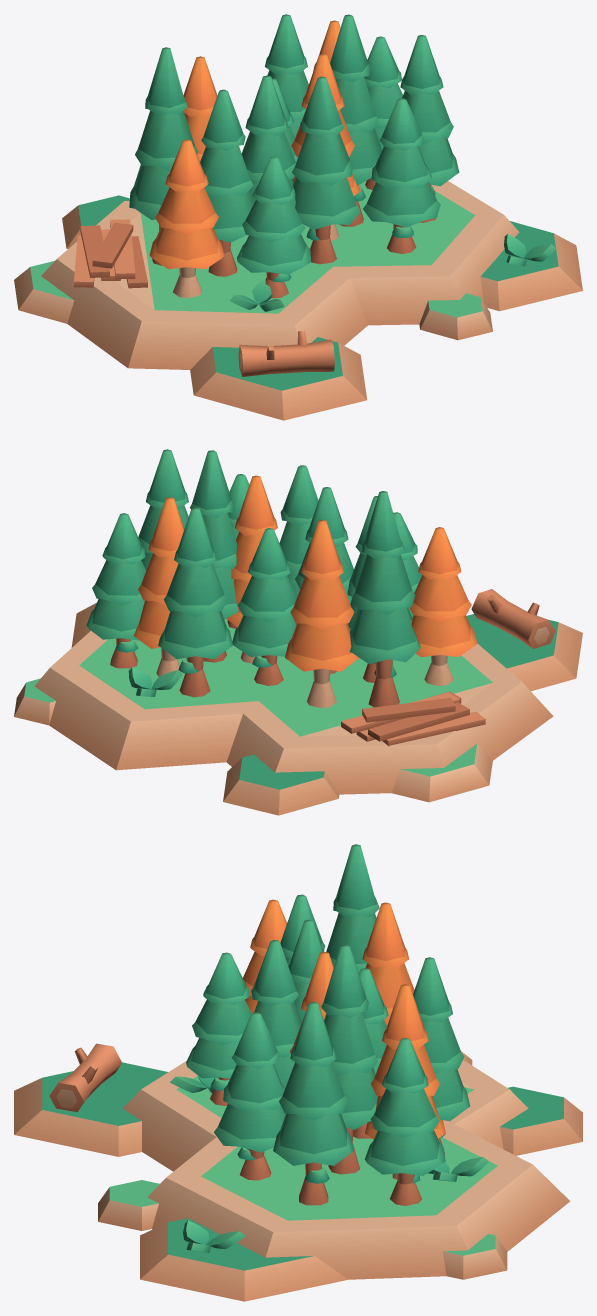
The model's file is Tree Island.glb.
3 renders of one model, top to bottom at view 1: azimuth 30°, elevation 25°; view 2: azimuth 150°, elevation 25°; view 3: azimuth 270°, elevation 25°, orthographic. The views are drawn at different scales.
Parts seen in each view (by area): view 1: rock-flat-grass, tree.002, tree-autumn.003, tree.005, tree, tree.004, tree.009, tree.006, tree.007, resource-planks, tree.010, tree-log-small (+4 smaller); view 2: rock-flat-grass, tree.009, tree.011, tree-autumn.001, tree-autumn.003, tree.003, tree.008, resource-planks, tree-autumn, tree.006, tree-autumn.002, tree.002 (+6 smaller); view 3: rock-flat-grass, tree.007, tree.008, tree.005, tree.006, tree, tree.011, tree.002, tree.009, tree-autumn, tree-autumn.001, tree-log-small (+5 smaller).
Part boxes in pixels (box(x1,y1,x2,y2)): rock-flat-grass: box(14, 180, 582, 420); tree.002: box(292, 76, 360, 264); tree-autumn.003: box(149, 139, 224, 298); tree.005: box(363, 98, 440, 253); tree: box(237, 156, 310, 298); tree.004: box(200, 89, 254, 276); tree.009: box(129, 47, 198, 265); tree.006: box(330, 14, 381, 226); tree.007: box(400, 35, 459, 222); resource-planks: box(74, 219, 147, 288); tree.010: box(241, 75, 295, 207); tree-log-small: box(238, 330, 334, 376); rock-flat-grass: box(14, 602, 582, 815); tree.009: box(349, 491, 420, 707); tree.011: box(158, 507, 233, 697); tree-autumn.001: box(285, 520, 359, 708); tree-autumn.003: box(409, 527, 477, 685); tree.003: box(232, 528, 296, 685); tree.008: box(86, 513, 145, 668); resource-planks: box(341, 691, 485, 746); tree-autumn: box(134, 497, 184, 676); tree.006: box(190, 450, 238, 662); tree-autumn.002: box(226, 475, 277, 663); tree.002: box(279, 465, 318, 597); rock-flat-grass: box(14, 1051, 582, 1301); tree.007: box(273, 1002, 353, 1205); tree.008: box(365, 1038, 445, 1205); tree.005: box(214, 1012, 285, 1180); tree.006: box(321, 944, 377, 1174); tree: box(186, 952, 251, 1105); tree.011: box(413, 957, 470, 1154); tree.002: box(251, 940, 301, 1088); tree.009: box(326, 844, 379, 973); tree-autumn: box(365, 984, 445, 1179); tree-autumn.001: box(362, 902, 414, 1025); tree-log-small: box(49, 1043, 121, 1112).
Bounding box in the file's own units: 3.93 × 1.9 × 3.69.
18 materials, 18 textured.
